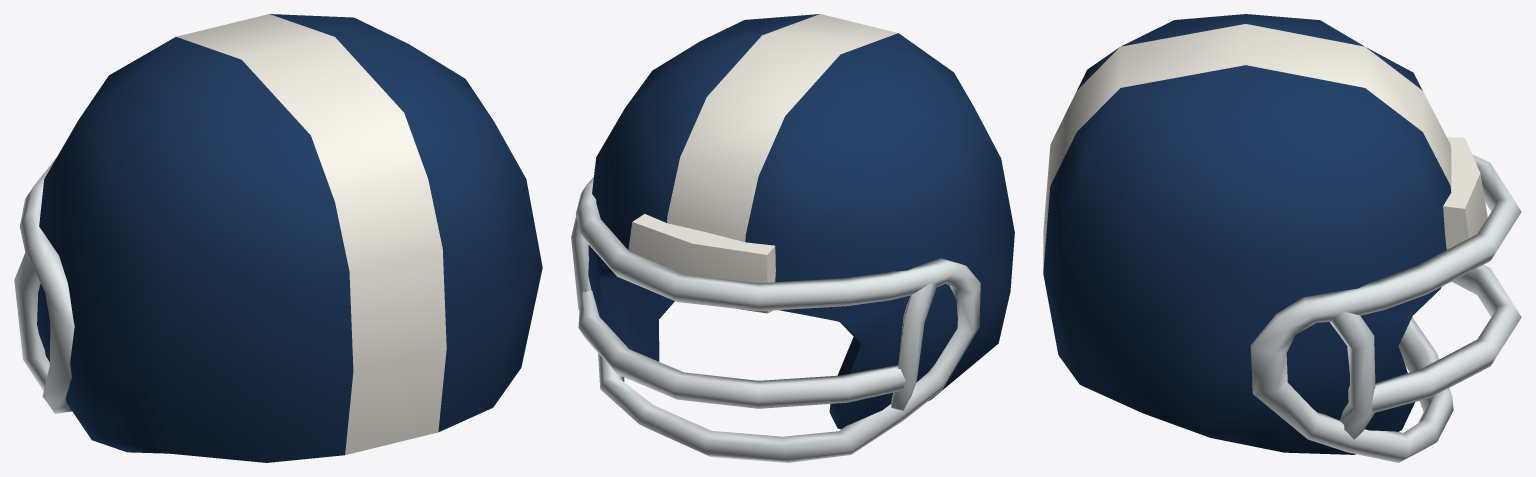
Rendered from Headgear_22.fbx.
3 views of the same model, side by side, from view 1: azimuth 30°, elevation 25°; view 2: azimuth 150°, elevation 25°; view 3: azimuth 270°, elevation 25° (orthographic). The views are drawn at different scales.
Parts seen in each view (by area): view 1: Headgear_22; view 2: Headgear_22; view 3: Headgear_22.
Boxes of the visible parts, x1,y1,x2,y2 form: Headgear_22: [14, 14, 542, 462]; Headgear_22: [571, 14, 1014, 462]; Headgear_22: [1043, 14, 1521, 462].
Size of the model in its own units: 85.5 by 75.82 by 88.01.
